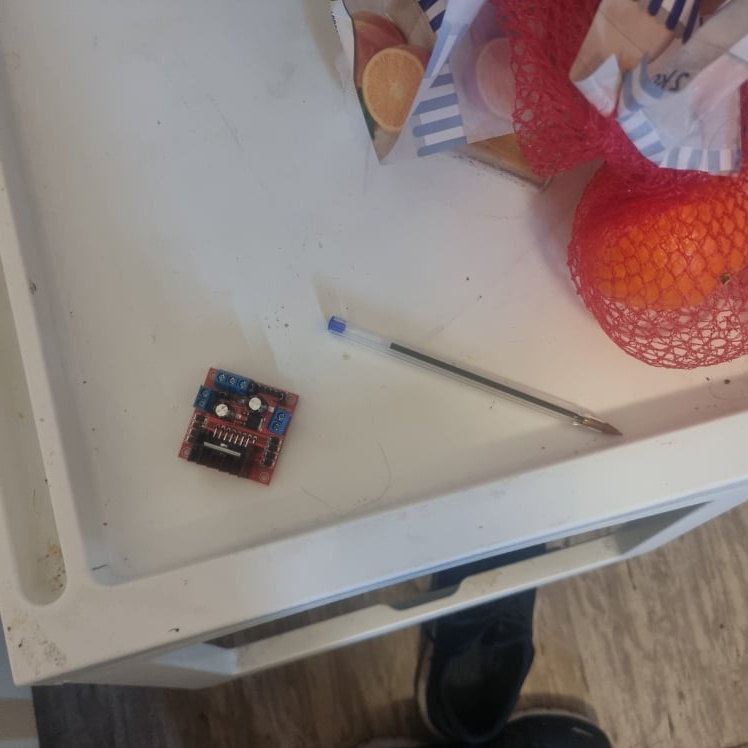MOTOR: (172, 365, 301, 488)
